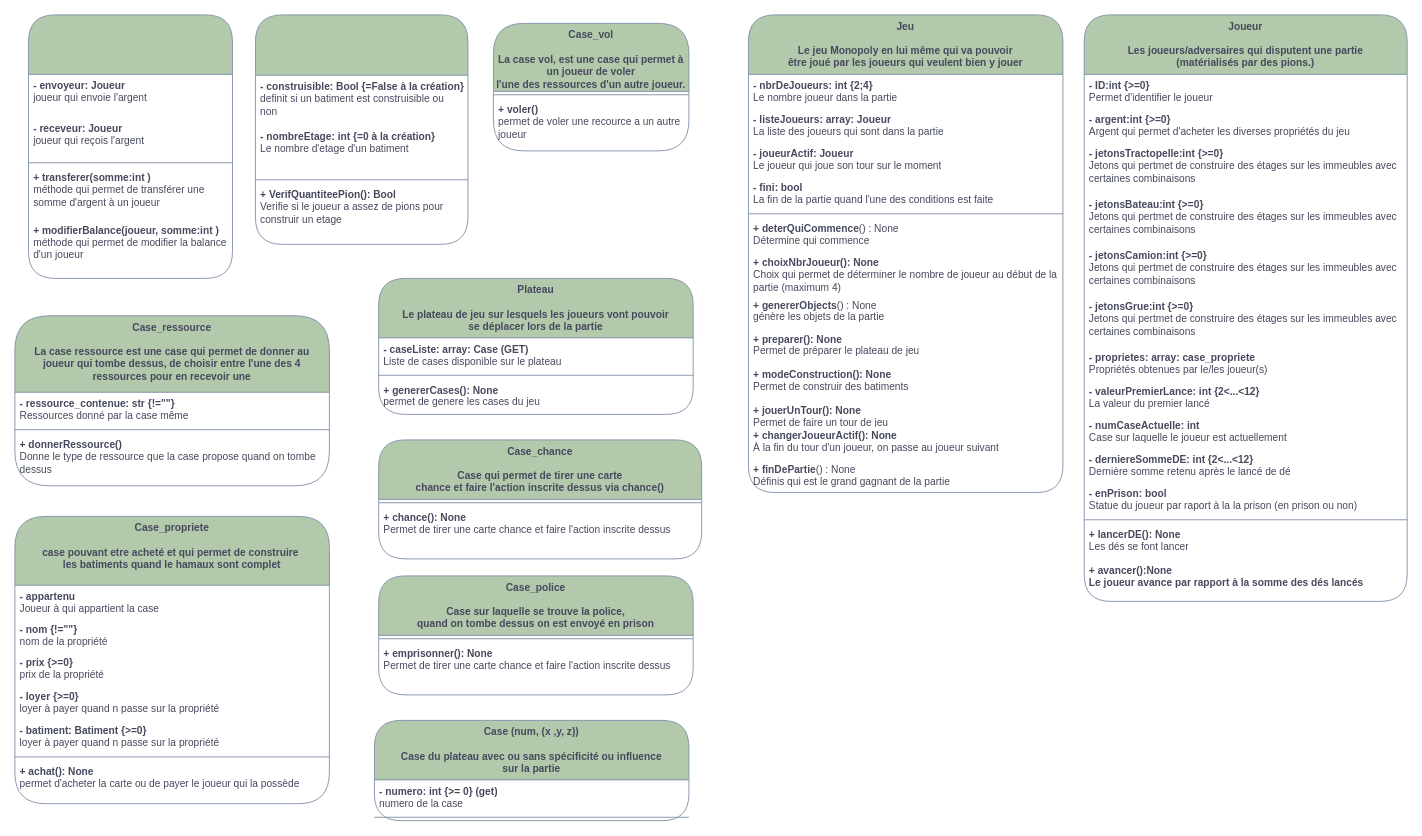
The diagram is 1422 pixels wide and 836 high, and some of its shapes have lost their labels. The shapes that lost their labels are listed below. From the top down, each one's box as (x1, y1, x2, y2) in pixels, then its label:
(28, 14, 232, 278): Banque || Objet qui permet de gérer les transfert d'argent entre les joueurs ||
(255, 14, 468, 244): Batiment || Classe Batiment, gere un batiment, ses etages et cetera ||
